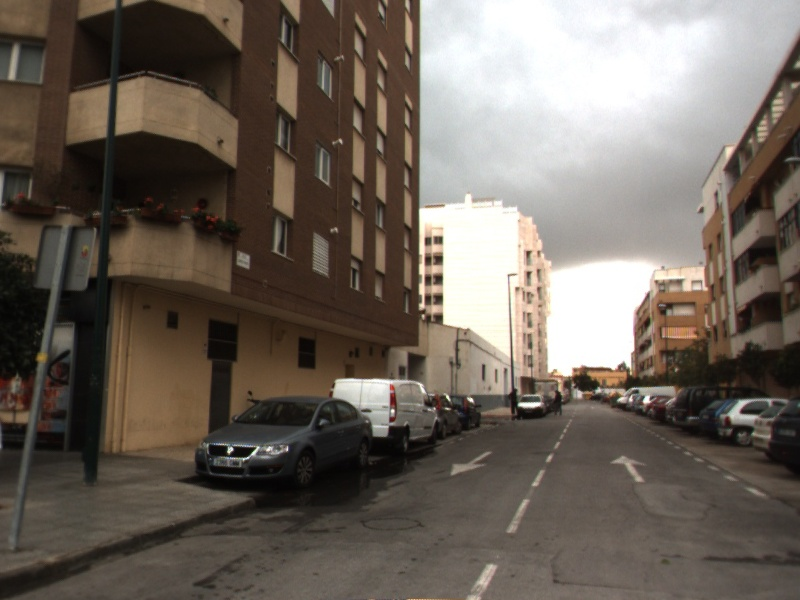STRAIGHT: (608, 453, 650, 484)
